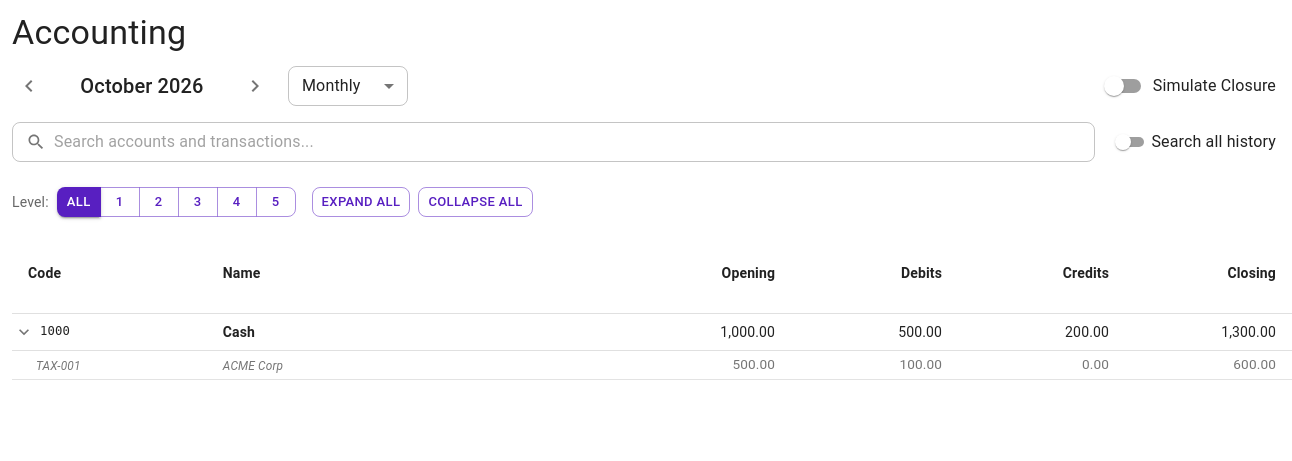
Test: AccountingPage › shows warning when only P&L account is missing
This screenshot has width=1292, height=461.
Click the checkbox labelled "Simulate Closure" at (1190, 86), box [1104,76,1276,96]
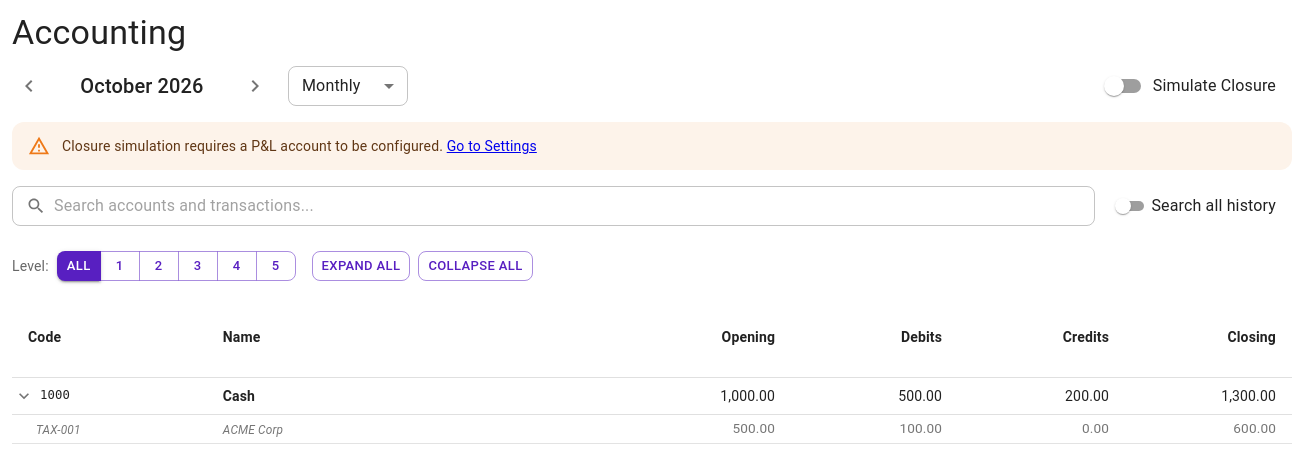
Expected: the text "requires a P&L account to be configured" is shown, [62,138,443,154]
